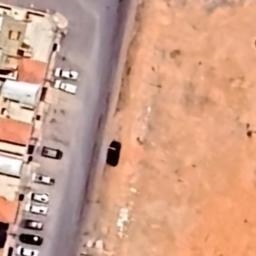sedan: (18, 233, 44, 246), (42, 146, 63, 160), (25, 204, 47, 216), (19, 220, 44, 230), (34, 174, 56, 185), (28, 191, 48, 203), (16, 247, 40, 256)
unknown: (106, 140, 121, 167), (54, 67, 79, 80), (54, 80, 77, 94)
